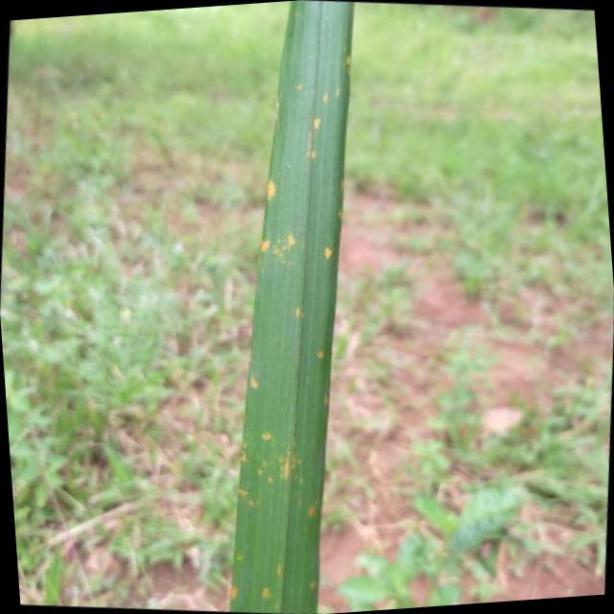Kalium: (226, 0, 354, 614)
